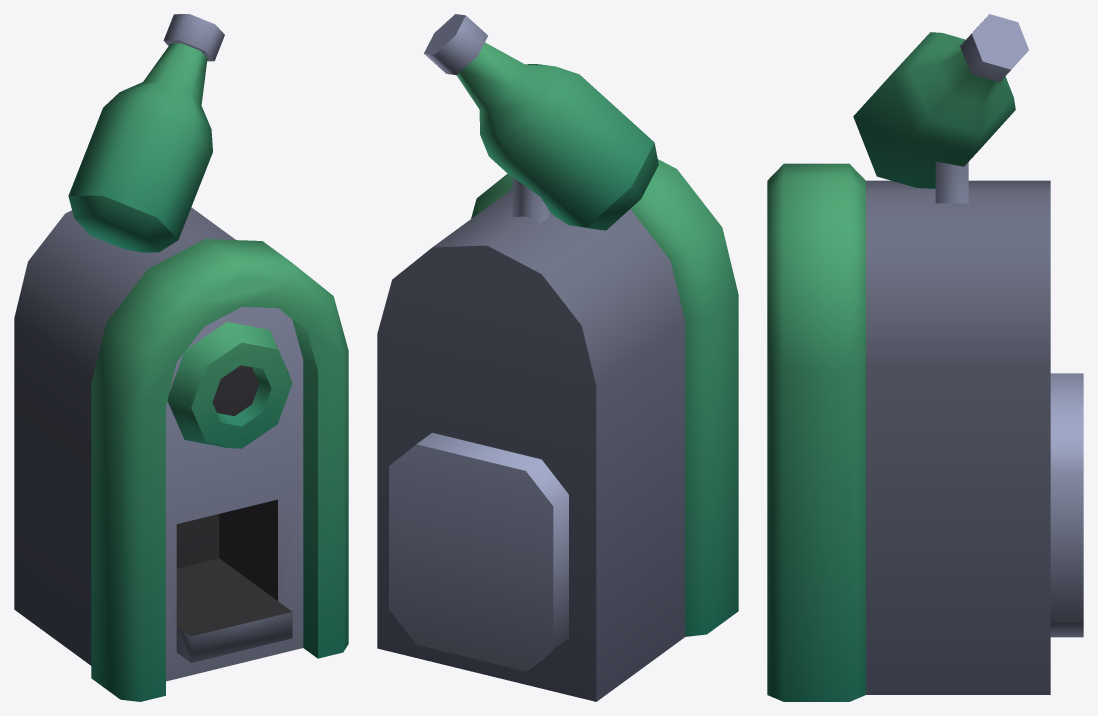
File: bottle-return.glb
3 views of the same model, side by side, from view 1: azimuth 30°, elevation 25°; view 2: azimuth 150°, elevation 25°; view 3: azimuth 270°, elevation 25° (orthographic). The views are drawn at different scales.
Visible parts, largest first — view 1: bottle-return; view 2: bottle-return; view 3: bottle-return.
Boxes of the visible parts, x1=… form: bottle-return: x1=14, y1=14, x2=348, y2=701; bottle-return: x1=377, y1=14, x2=738, y2=701; bottle-return: x1=767, y1=14, x2=1083, y2=701.
Bounding box in the file's own units: 0.45 × 1.09 × 0.481.
